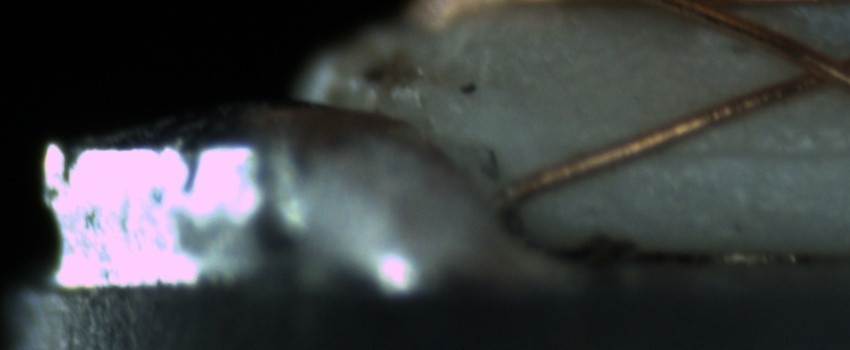CL: (771, 37, 847, 102)
DL: (633, 115, 850, 187)
